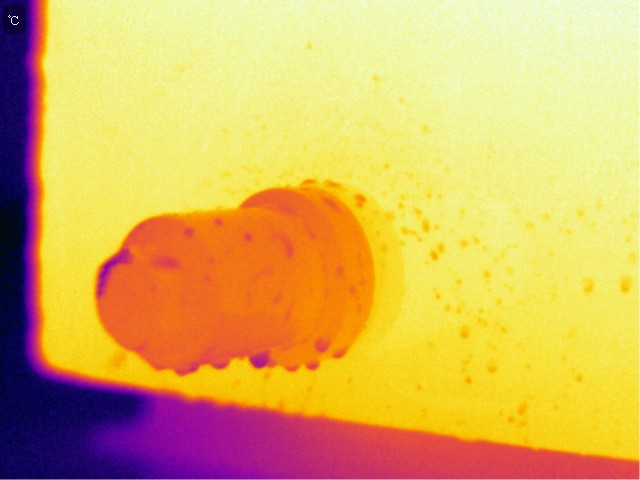Water: (460, 319, 497, 384), (349, 271, 367, 314), (272, 232, 298, 258), (154, 251, 183, 273), (248, 347, 270, 372), (297, 171, 320, 193), (427, 241, 452, 261), (173, 362, 205, 377), (513, 400, 530, 427), (144, 360, 170, 377), (210, 354, 229, 374), (353, 190, 370, 211), (301, 358, 323, 374), (332, 344, 347, 366), (619, 273, 632, 296), (182, 224, 201, 239), (579, 277, 593, 297), (317, 337, 333, 352), (324, 175, 341, 189), (212, 215, 228, 228), (241, 230, 250, 242)
